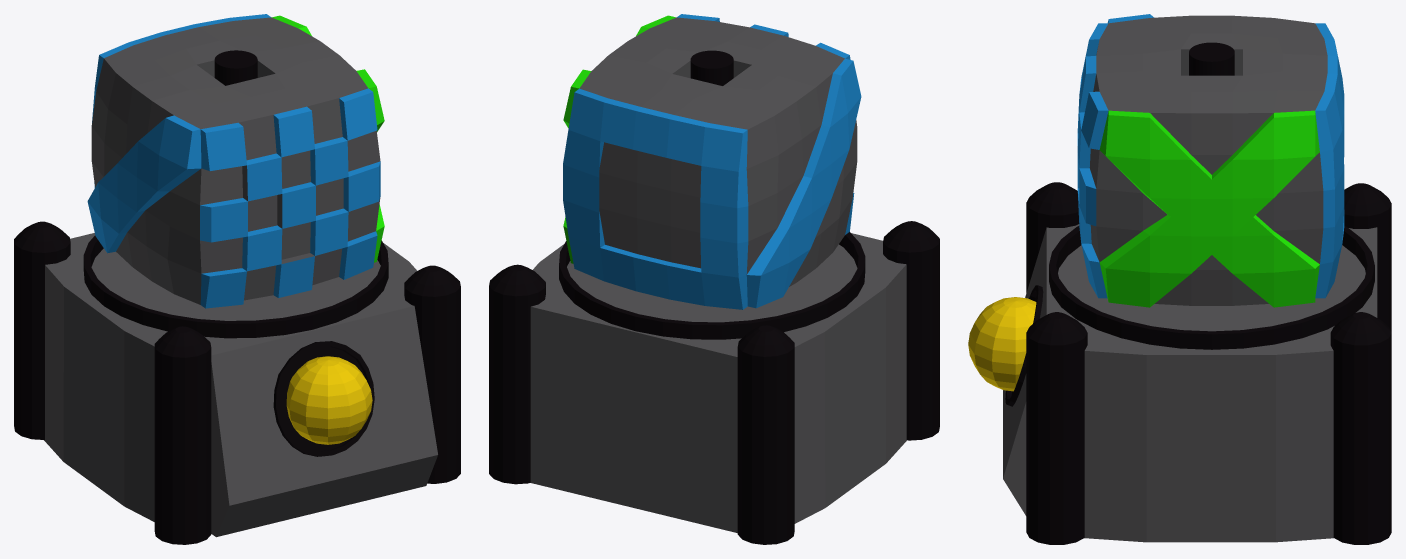
The model's file is PlaceholderRodilloFinal.fbx.
The picture shows the model from 3 angles, left to right: view 1: azimuth 30°, elevation 25°; view 2: azimuth 150°, elevation 25°; view 3: azimuth 270°, elevation 25°; orthographic projection. The views are drawn at different scales.
Parts seen in each view (by area): view 1: Base, Rotator, Sphere; view 2: Base, Rotator; view 3: Base, Rotator, Sphere.
Boxes of the visible parts, x1,y1,x2,y2 form: Base: (14,50,460,544); Rotator: (87,14,384,308); Sphere: (286,356,372,444); Base: (489,50,939,544); Rotator: (563,14,861,309); Base: (1003,42,1391,544); Rotator: (1077,14,1344,307); Sphere: (968,297,1036,391).
Size of the model in its own units: 355 by 444 by 410.
